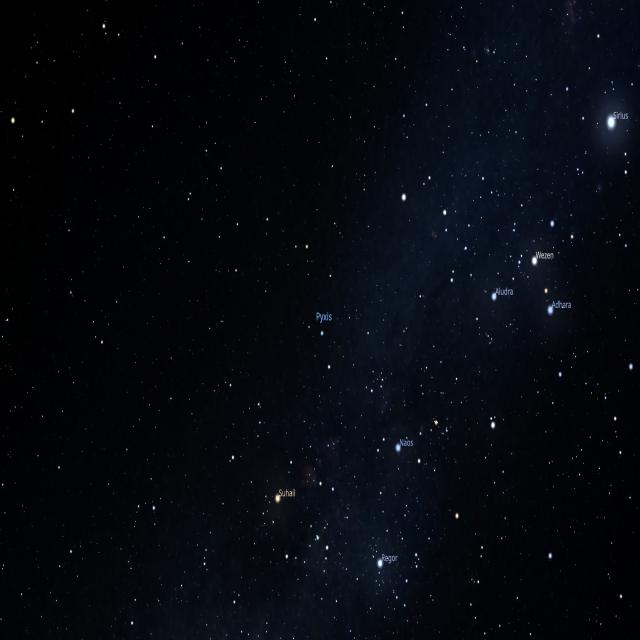Pyxis: (302, 241, 334, 373)
